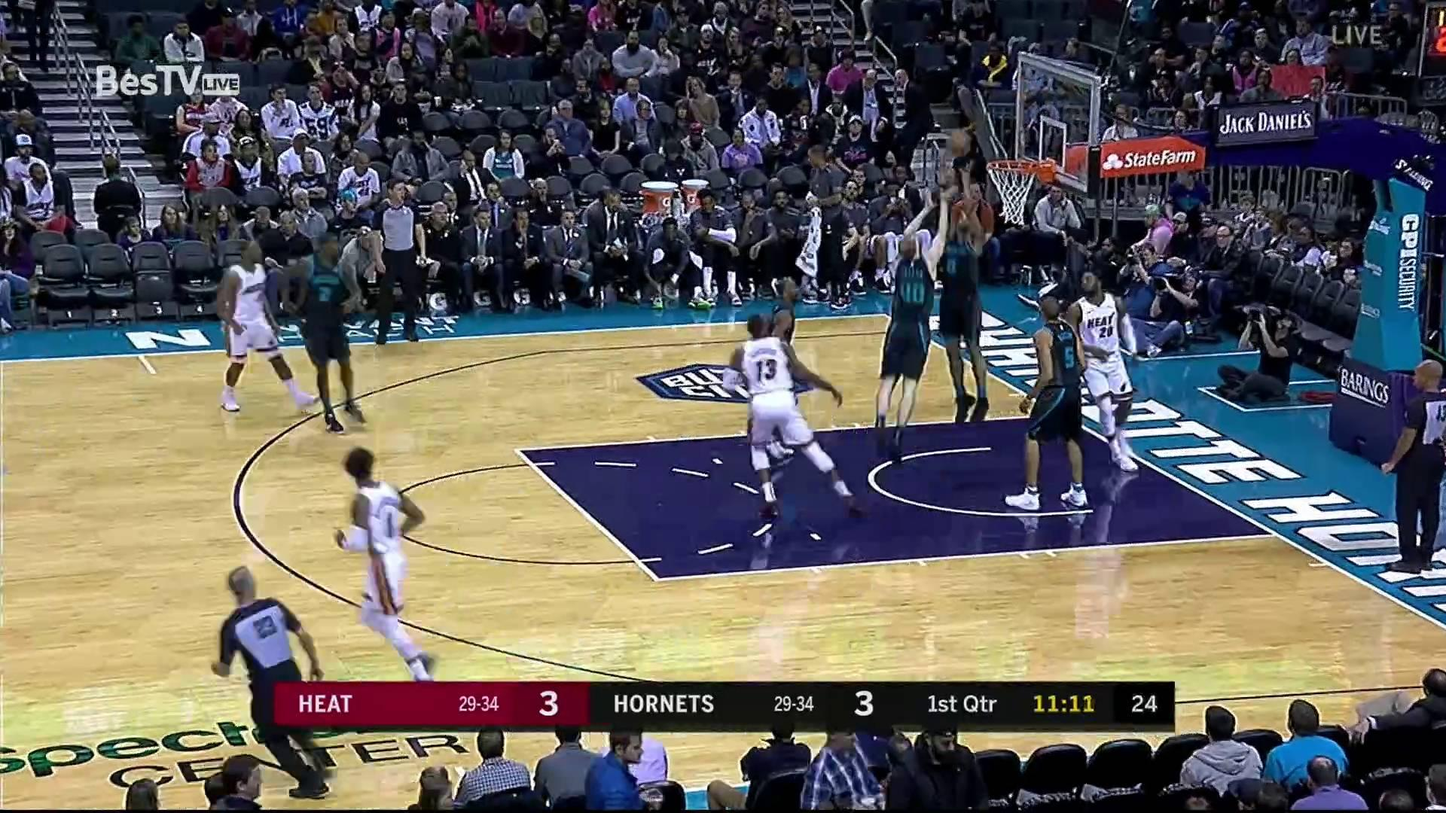basketball: (945, 128, 973, 154)
